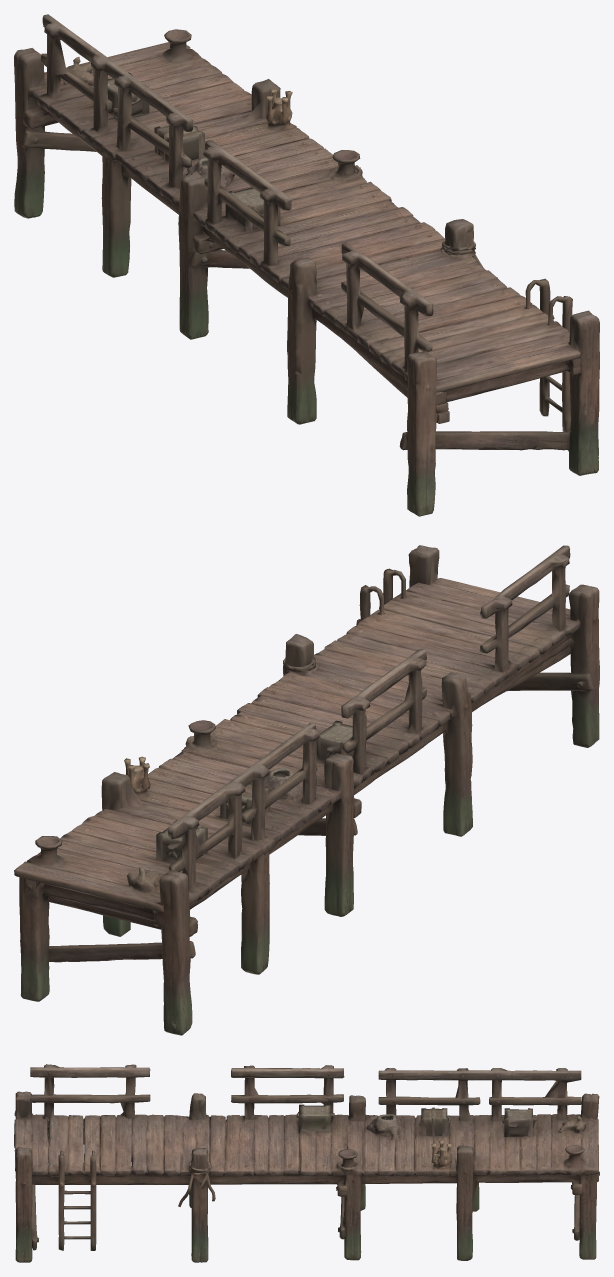
File: ponton.glb
3 renders of one model, top to bottom at view 1: azimuth 30°, elevation 25°; view 2: azimuth 150°, elevation 25°; view 3: azimuth 270°, elevation 25°, orthographic. The views are drawn at different scales.
Parts seen in each view (by area): view 1: tripo_node_671055a9-6a99-4970-abdb-9e97cb9678f7.001; view 2: tripo_node_671055a9-6a99-4970-abdb-9e97cb9678f7.001; view 3: tripo_node_671055a9-6a99-4970-abdb-9e97cb9678f7.001.
Boxes of the visible parts, <box> form: tripo_node_671055a9-6a99-4970-abdb-9e97cb9678f7.001: <box>14,14,599,516</box>; tripo_node_671055a9-6a99-4970-abdb-9e97cb9678f7.001: <box>14,545,599,1035</box>; tripo_node_671055a9-6a99-4970-abdb-9e97cb9678f7.001: <box>14,1064,599,1262</box>.
Bounding box in the file's own units: 0.924 × 0.9061 × 3.42.
Materials: 1 (1 with a texture image).
